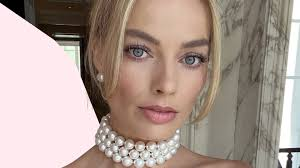face: (118, 25, 215, 128)
